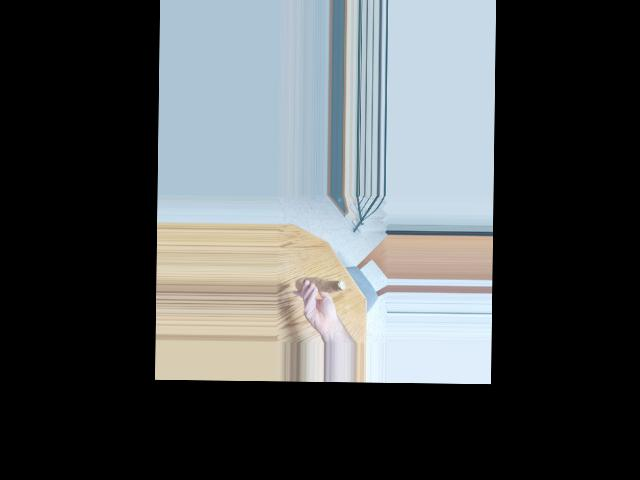sweet_potato: (299, 272, 340, 291)
